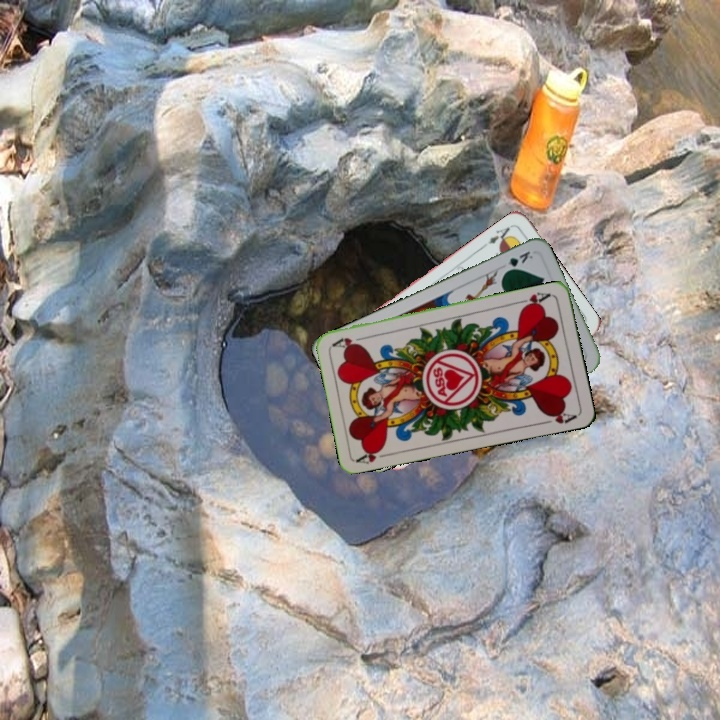EA: (484, 221, 516, 247)
GK: (500, 247, 535, 275)
HA: (514, 288, 554, 312), (354, 443, 394, 466)
